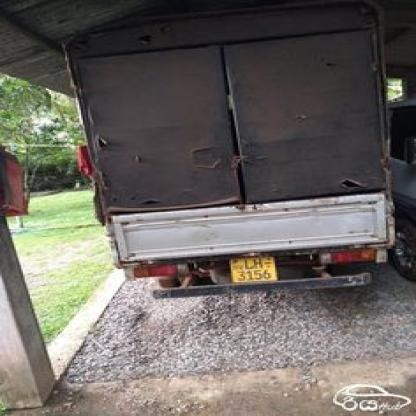Lorry back: (58, 0, 416, 309)
number plate: (223, 256, 284, 284)
